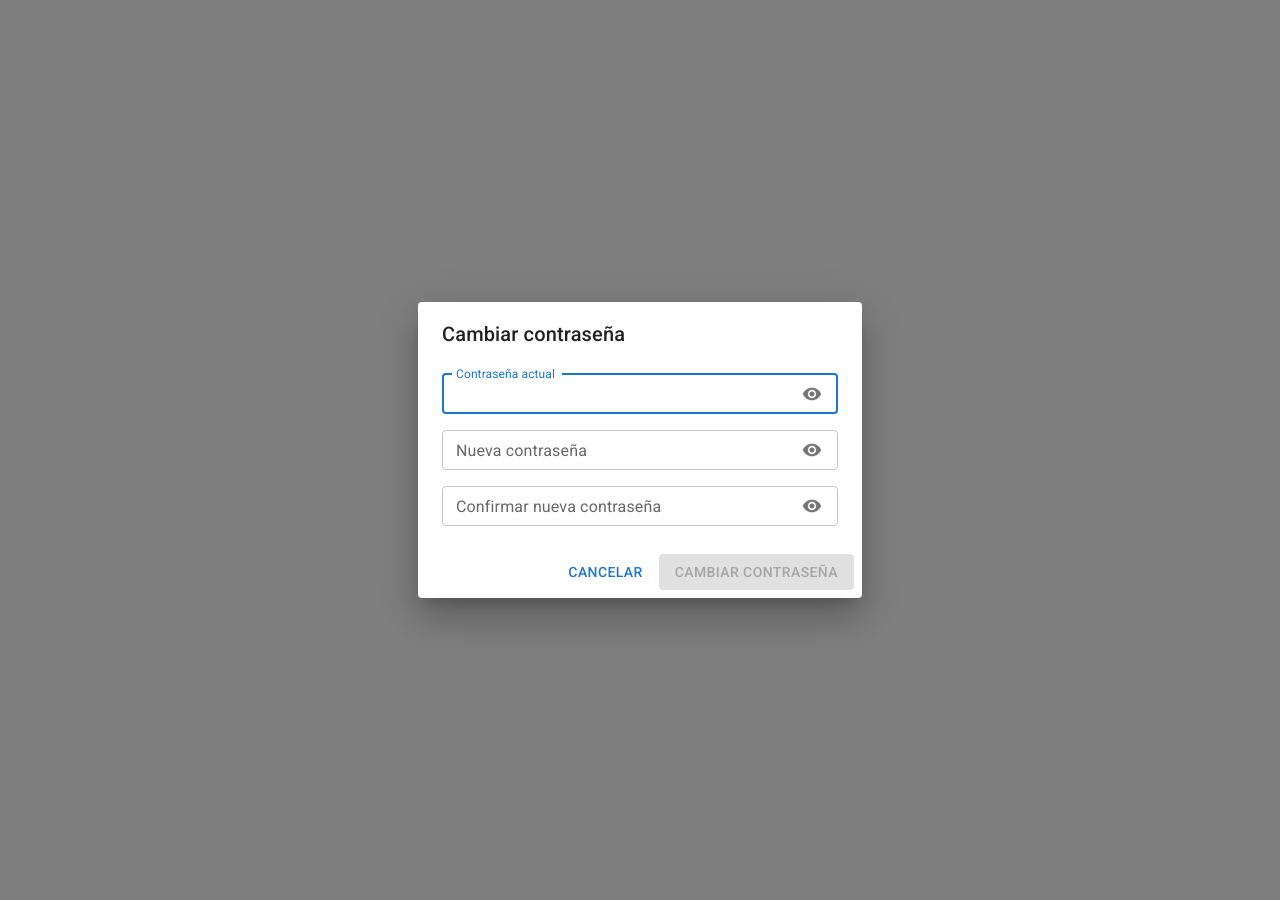
Test: ChangePasswordDialog › shows password strength indicator for new password
The image size is (1280, 900).
Step 1. Type "abc" into the password field labelled "Nueva contraseña" → (616, 450), box x1=442 y1=430 x2=789 y2=470
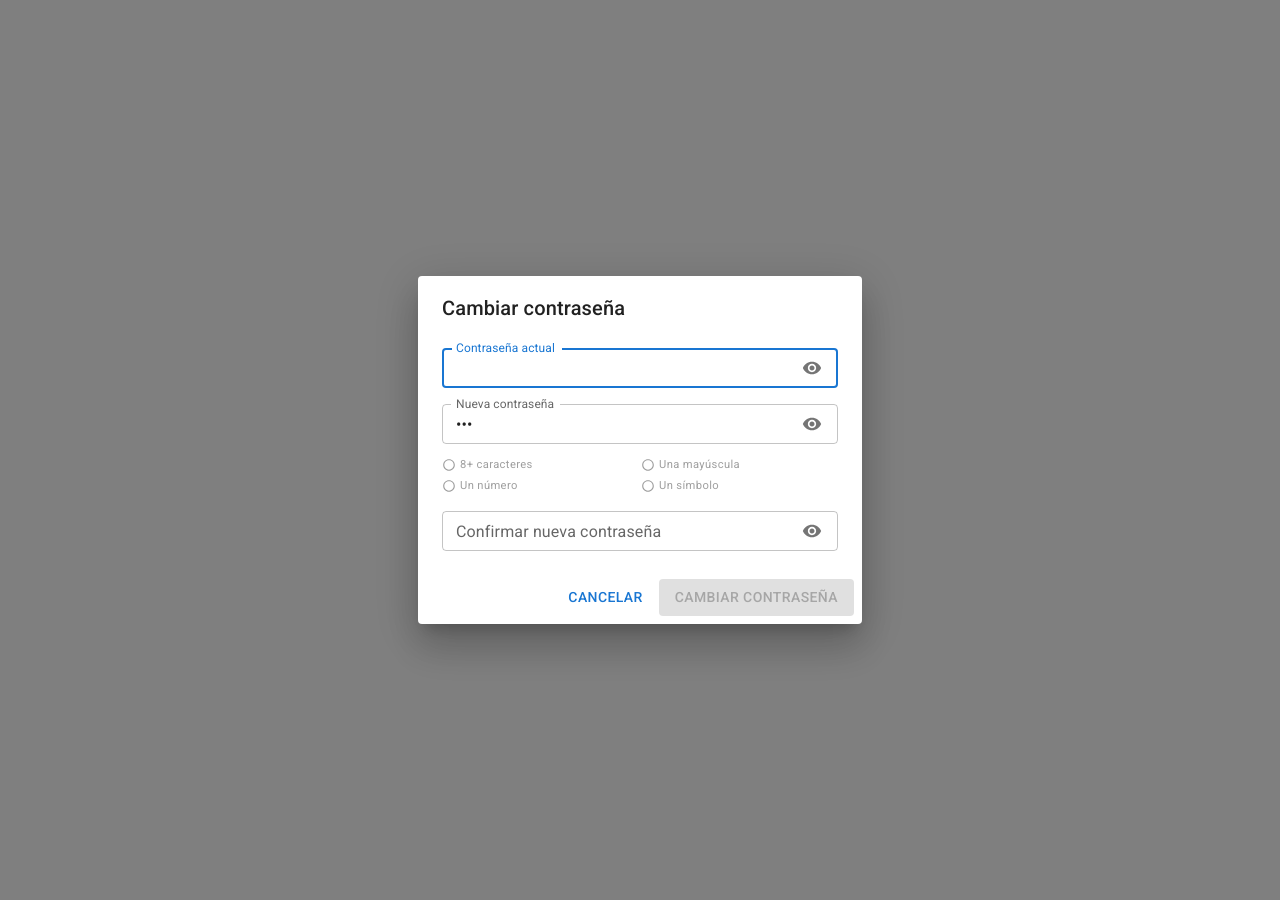
Check: the text "8+ caracteres" is shown, box x1=460 y1=456 x2=533 y2=475
Check: the text "Una mayúscula" is shown, box x1=659 y1=456 x2=740 y2=475
Check: the text "Un número" is shown, box x1=460 y1=477 x2=518 y2=495
